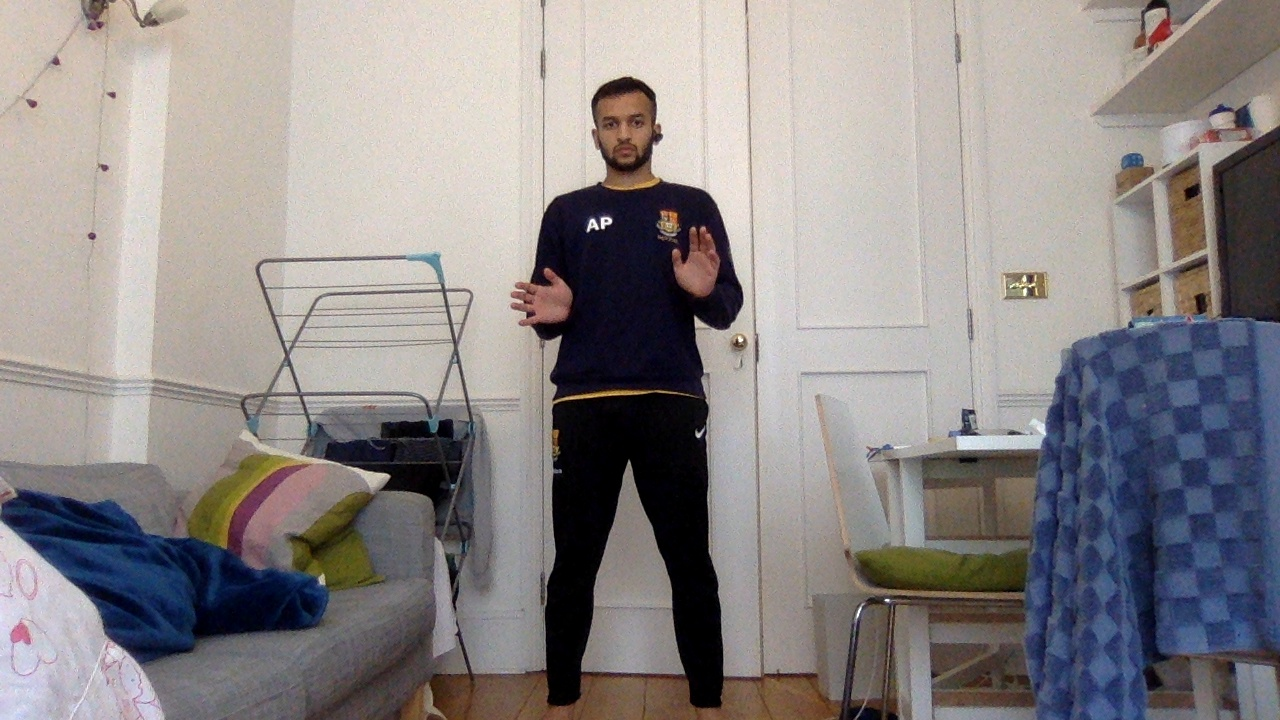hand: (668, 222, 728, 305), (504, 266, 576, 333)
